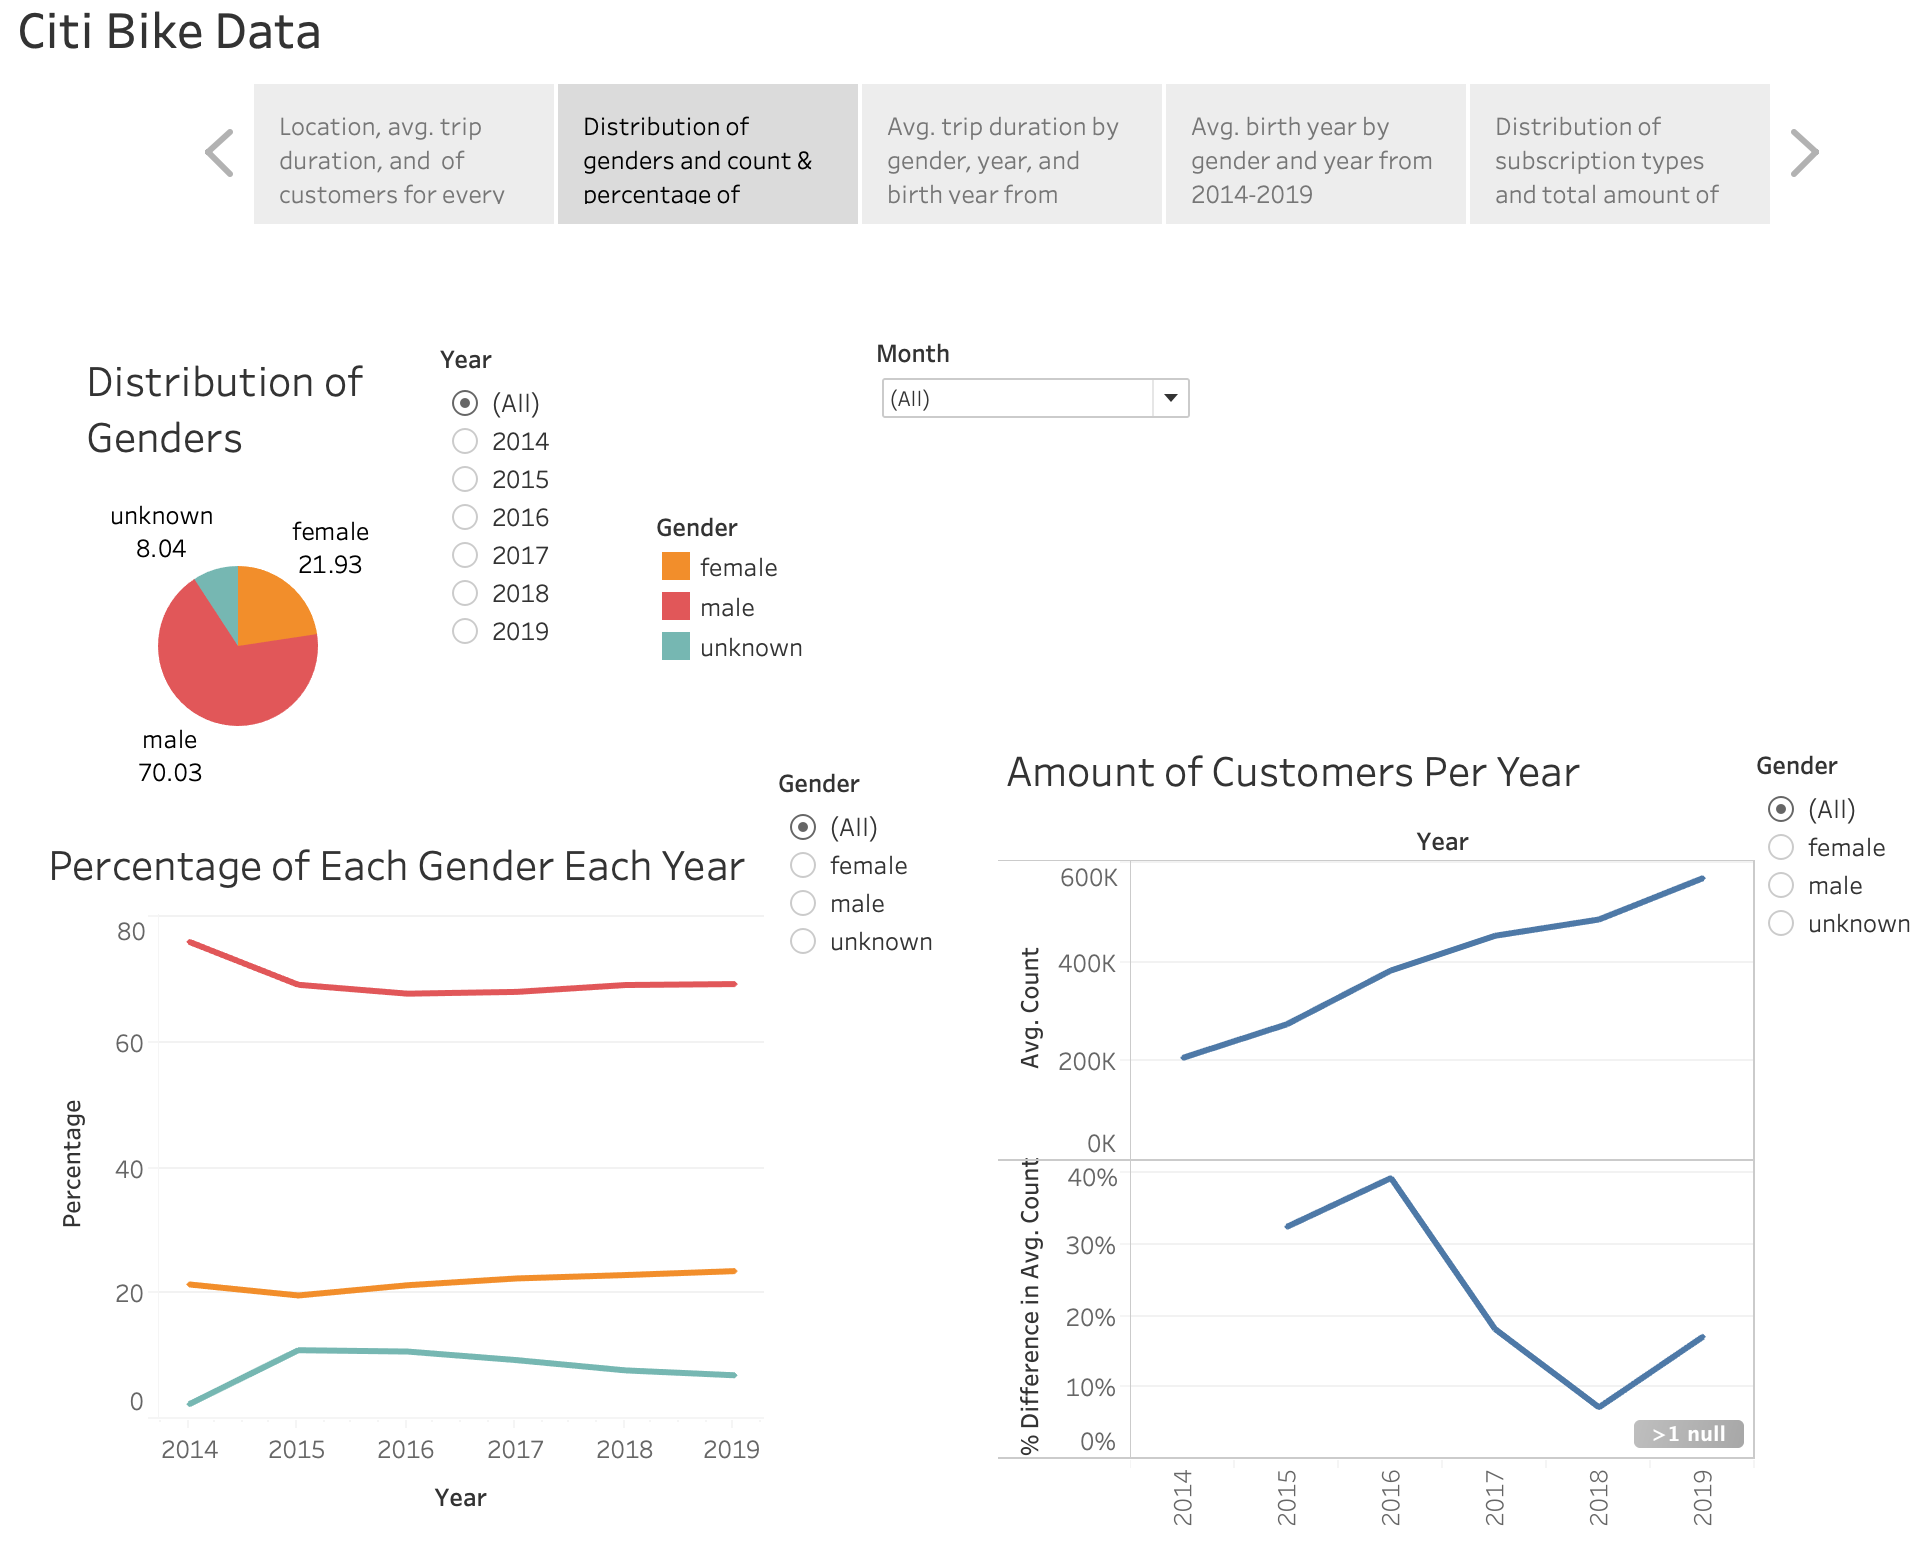

The page's visual inventory and layout, read from the dashboard file:
{"tool":"tableau","page":{"name":"gender dashboard","canvas":[1000,800],"ordinal":1},"visuals":[{"type":"worksheet","title":"gender pie","mark":"Pie","param":"[federated.0qrzypm01kfi9r112zy430zukuo0].[none:month:nk]","box":[432,29,160,44]},{"type":"worksheet","title":"gender pie","mark":"Pie","param":"[federated.0qrzypm01kfi9r112zy430zukuo0].[none:year:ok]","box":[214,32,160,157]},{"type":"worksheet","title":"gender pie","mark":"Pie","box":[33,33,370,239]},{"type":"worksheet","title":"gender pie","mark":"Pie","param":"[federated.0qrzypm01kfi9r112zy430zukuo0].[none:gender:nk]","box":[322,116,140,78]},{"type":"worksheet","title":"customer line","mark":"Line","rows":["count"],"cols":["year"],"box":[493,228,379,403]},{"type":"worksheet","title":"customer line","mark":"Line","rows":["count"],"cols":["year"],"param":"[federated.0qrzypm01kfi9r112zy430zukuo0].[none:gender:nk]","box":[872,235,122,100]},{"type":"worksheet","title":"gender line","mark":"Automatic","rows":["percentage"],"cols":["Year (copy)_6147765339941711873"],"param":"[federated.0qrzypm01kfi9r112zy430zukuo0].[none:gender:nk]","box":[383,244,97,101]},{"type":"worksheet","title":"gender line","mark":"Automatic","rows":["percentage"],"cols":["Year (copy)_6147765339941711873"],"box":[14,275,362,350]}]}

Visuals, with their boxes in screenshot pixels (x1, y1, x2, y2), scaled from the page's 1000x800 canvas onto the 1930x1564 screenshot:
"gender pie" worksheet (Pie marks): BBox(834, 57, 1143, 143)
"gender pie" worksheet (Pie marks): BBox(413, 63, 722, 369)
"gender pie" worksheet (Pie marks): BBox(64, 65, 778, 532)
"gender pie" worksheet (Pie marks): BBox(621, 227, 892, 379)
"customer line" worksheet (Line marks): BBox(951, 446, 1683, 1234)
"customer line" worksheet (Line marks): BBox(1683, 459, 1918, 655)
"gender line" worksheet: BBox(739, 477, 926, 674)
"gender line" worksheet: BBox(27, 538, 726, 1222)
